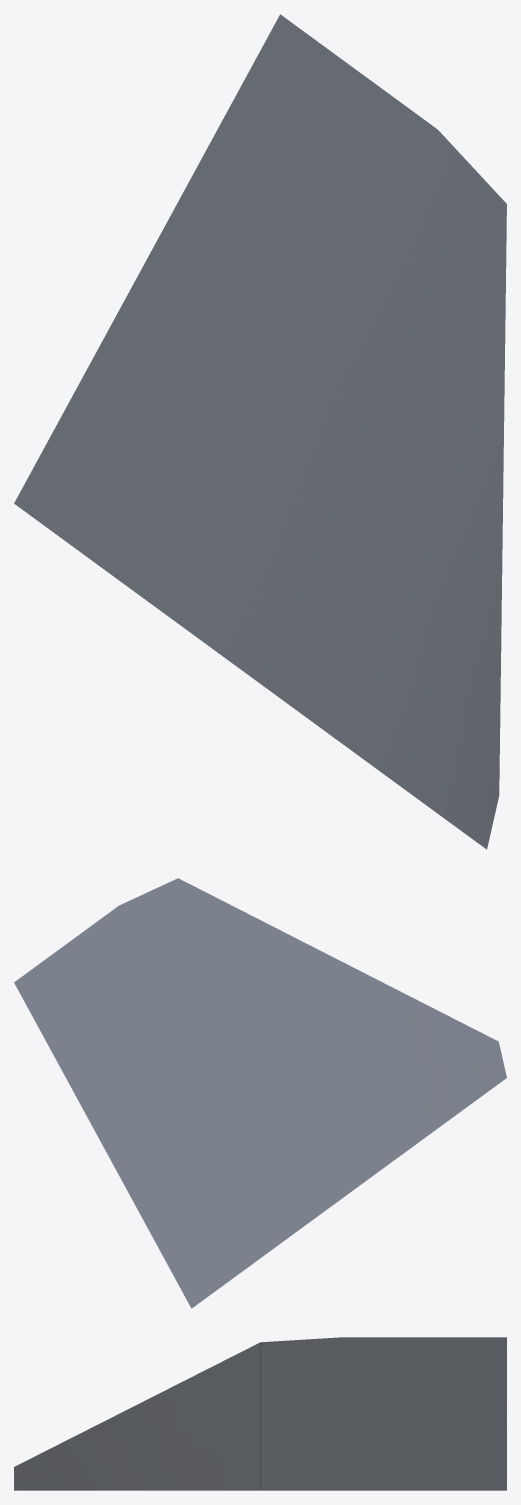
Rendered from side_window_rear_right.glb.
The picture shows the model from 3 angles, top to bottom: view 1: azimuth 30°, elevation 25°; view 2: azimuth 150°, elevation 25°; view 3: azimuth 270°, elevation 25°; orthographic projection. The views are drawn at different scales.
Visible parts, largest first — view 1: GEO_SideWindow_RR; view 2: GEO_SideWindow_RR; view 3: GEO_SideWindow_RR.
Part boxes in pixels (x1=…): GEO_SideWindow_RR: x1=14, y1=14, x2=506, y2=849; GEO_SideWindow_RR: x1=14, y1=878, x2=506, y2=1308; GEO_SideWindow_RR: x1=14, y1=1337, x2=506, y2=1490.
Size of the model in its own units: 0.325 by 0.495 by 1.
